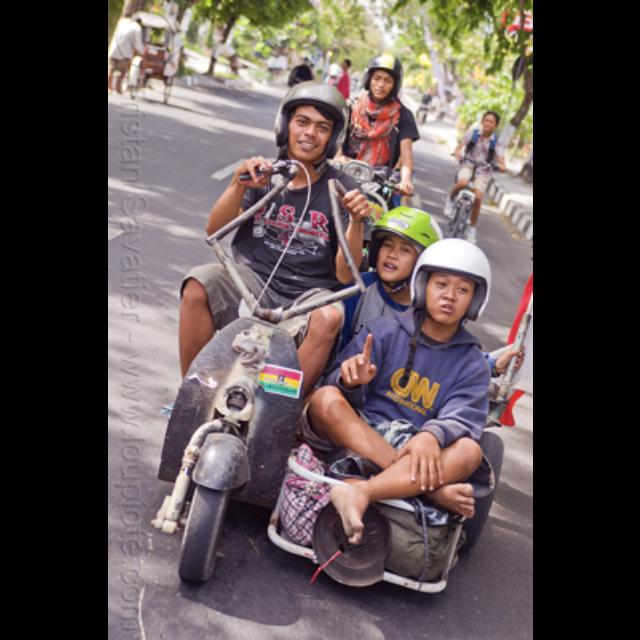With Helmet: (274, 70, 348, 172)
